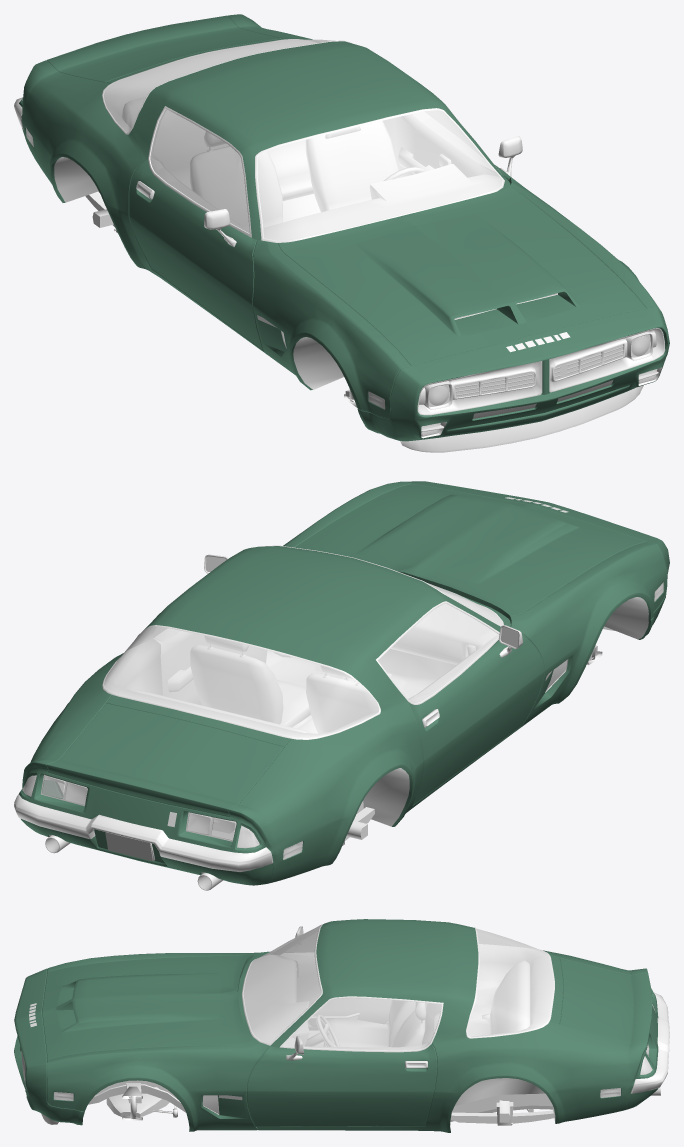
File: body.glb
3 renders of one model, top to bottom at view 1: azimuth 30°, elevation 25°; view 2: azimuth 150°, elevation 25°; view 3: azimuth 270°, elevation 25°, orthographic. The views are drawn at different scales.
Parts seen in each view (by area): view 1: Phoenix445_Body_Phoenix445_Bodymat_0, Phoenix445_Glass_Passenger_UCB_Lights_and_Glass_Transperent_, Phoenix445_Interior_UCB_Interiors_2_0, Phoenix445_Bumper_rear_UCB_BOTTOM_0, Phoenix445_Reverse_UCB_Lights_and_Glass_0; view 2: Phoenix445_Body_Phoenix445_Bodymat_0, Phoenix445_Glass_Passenger_UCB_Lights_and_Glass_Transperent_, Phoenix445_Interior_UCB_Interiors_2_0, Phoenix445_Bumper_rear_UCB_BOTTOM_0, Phoenix445_Reverse_UCB_Lights_and_Glass_0, Phoenix455_np_Numberplates_Misk_U_0; view 3: Phoenix445_Body_Phoenix445_Bodymat_0, Phoenix445_Glass_Passenger_UCB_Lights_and_Glass_Transperent_, Phoenix445_Interior_UCB_Interiors_2_0, Phoenix445_Bumper_rear_UCB_BOTTOM_0, Phoenix445_Reverse_UCB_Lights_and_Glass_0.
Boxes of the visible parts, x1,y1,x2,y2 form: Phoenix445_Body_Phoenix445_Bodymat_0: (19, 14, 669, 441); Phoenix445_Glass_Passenger_UCB_Lights_and_Glass_Transperent_: (22, 39, 657, 436); Phoenix445_Interior_UCB_Interiors_2_0: (104, 40, 502, 240); Phoenix445_Bumper_rear_UCB_BOTTOM_0: (14, 39, 665, 452); Phoenix445_Reverse_UCB_Lights_and_Glass_0: (26, 128, 656, 436); Phoenix445_Body_Phoenix445_Bodymat_0: (19, 481, 669, 885); Phoenix445_Glass_Passenger_UCB_Lights_and_Glass_Transperent_: (22, 582, 663, 859); Phoenix445_Interior_UCB_Interiors_2_0: (104, 591, 501, 737); Phoenix445_Bumper_rear_UCB_BOTTOM_0: (14, 545, 663, 890); Phoenix445_Reverse_UCB_Lights_and_Glass_0: (23, 583, 663, 858); Phoenix455_np_Numberplates_Misk_U_0: (105, 832, 153, 860); Phoenix445_Body_Phoenix445_Bodymat_0: (14, 919, 658, 1132); Phoenix445_Glass_Passenger_UCB_Lights_and_Glass_Transperent_: (54, 925, 652, 1100); Phoenix445_Interior_UCB_Interiors_2_0: (244, 926, 552, 1049); Phoenix445_Bumper_rear_UCB_BOTTOM_0: (21, 924, 669, 1130); Phoenix445_Reverse_UCB_Lights_and_Glass_0: (54, 1046, 651, 1100).
Size of the model in its own units: 2.09 by 1.2 by 4.89.
